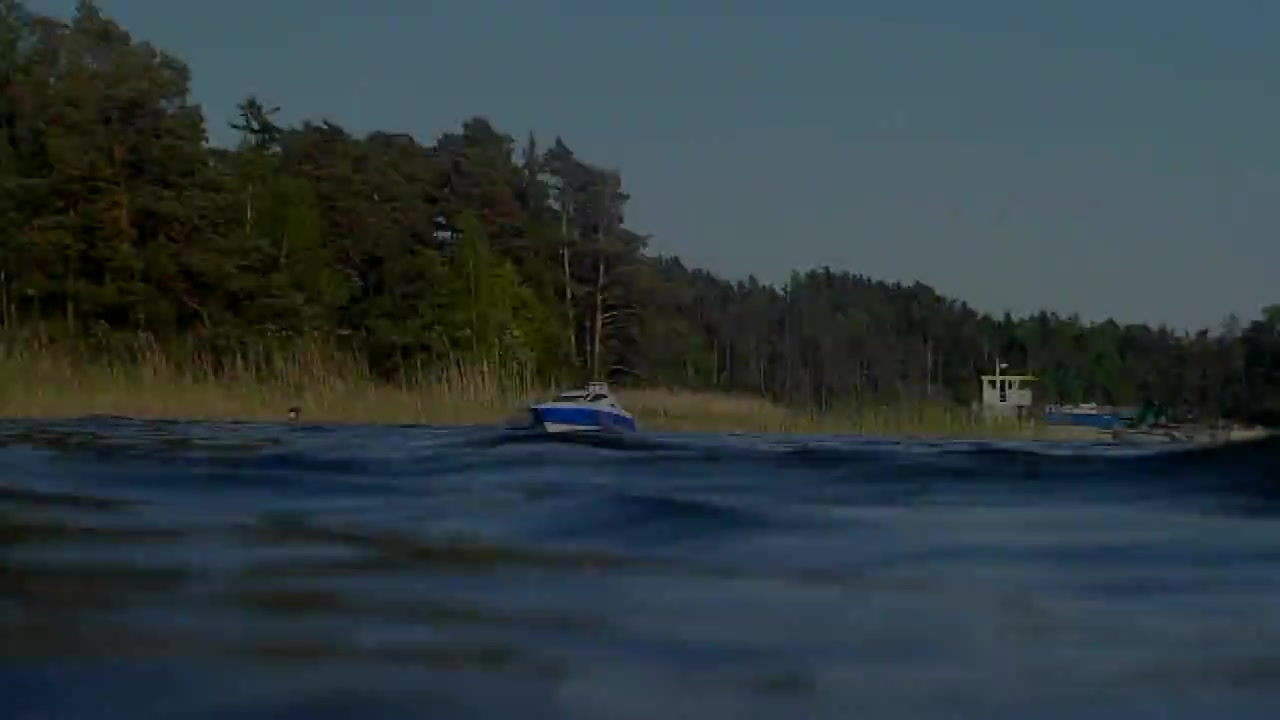boat: (523, 378, 642, 448)
